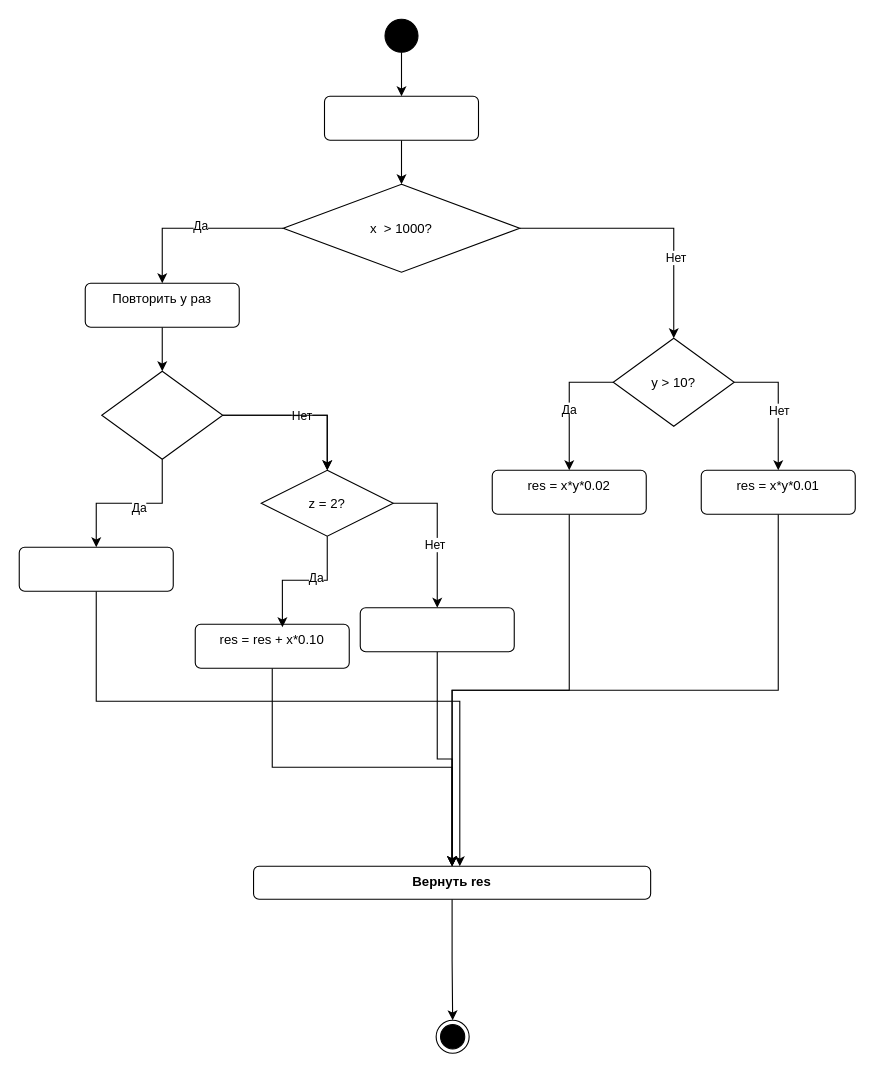
Image size: 875x1073. Some labels were removed from this diagram. The shapes that lost their labels are listed below. From the top down, each one's centre as x and y in pixels, then its label:
At point 401,117: "res = 0".
At point 162,414: "z = 1?".
At point 95,568: "res = res + x*0.15".
At point 436,629: "res = res + x*0.05".
